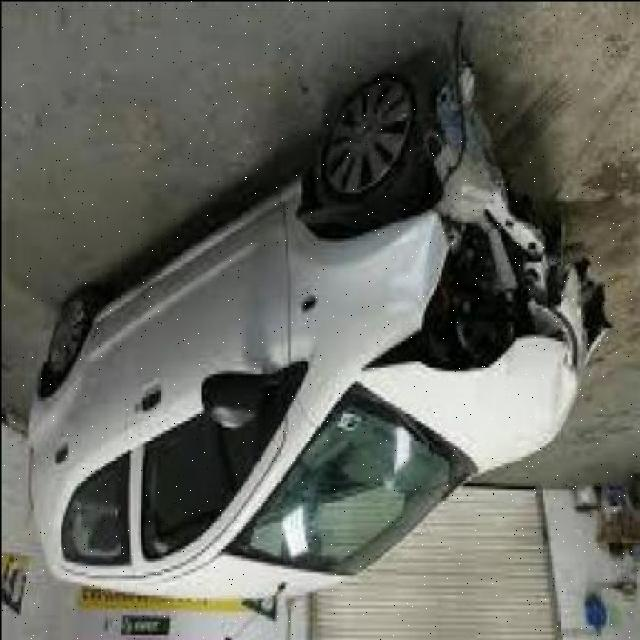damage: (362, 20, 612, 422)
